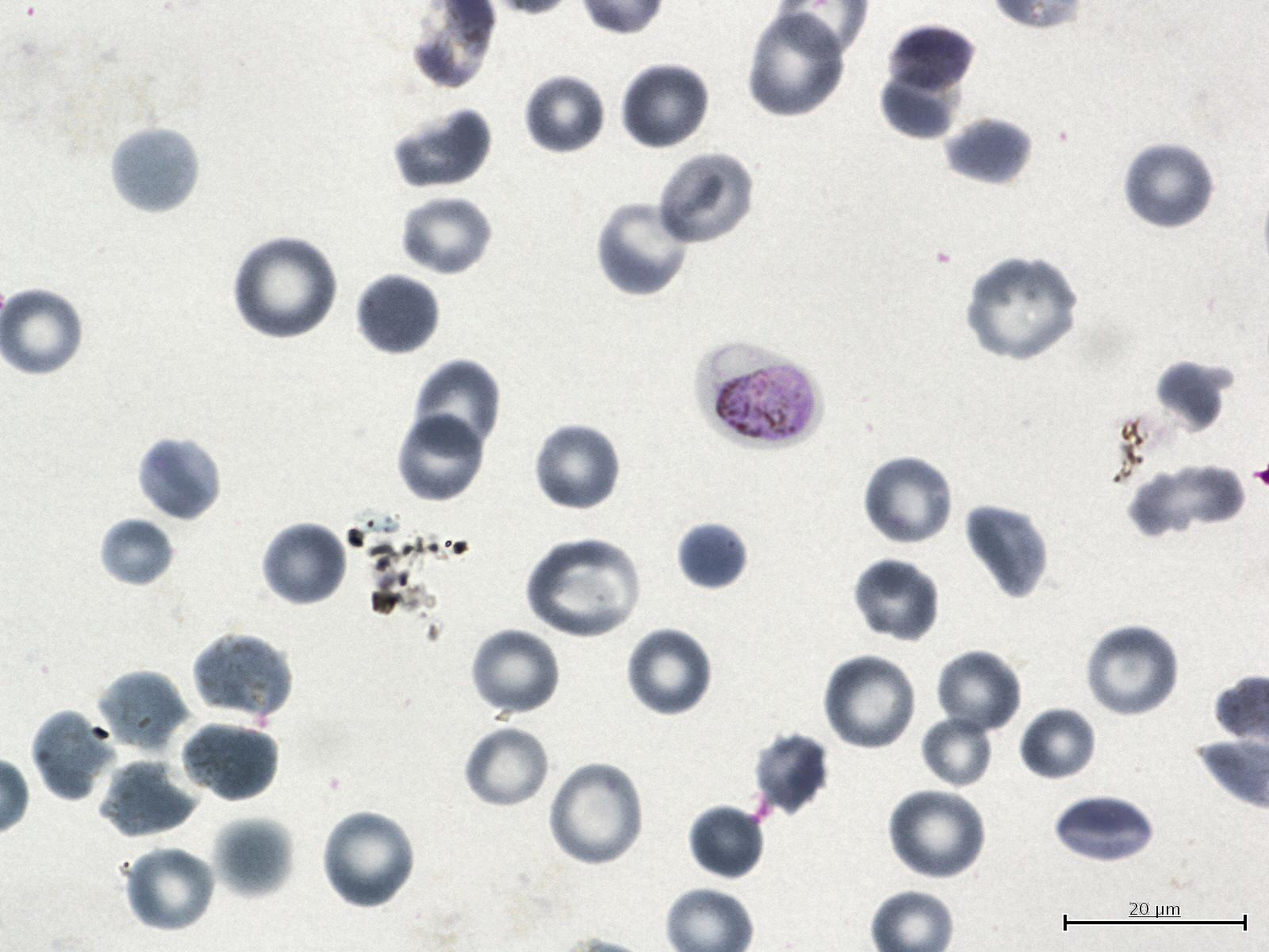Infected: (695, 343, 819, 447)
Uninfected: (522, 532, 644, 643), (231, 233, 338, 342), (968, 259, 1075, 363), (746, 10, 845, 120), (548, 763, 645, 868), (1123, 462, 1249, 540), (656, 150, 756, 248), (411, 360, 503, 465), (822, 653, 918, 752), (596, 198, 691, 298), (888, 786, 986, 881), (321, 809, 414, 908), (1084, 624, 1179, 718), (194, 631, 293, 720), (960, 501, 1047, 600), (863, 455, 955, 547), (1122, 140, 1214, 231), (125, 843, 217, 933), (392, 106, 490, 190), (619, 61, 710, 151), (469, 628, 562, 716), (396, 412, 484, 505), (625, 627, 713, 718), (99, 760, 197, 841), (109, 125, 199, 213), (182, 721, 279, 802), (533, 423, 621, 512), (98, 667, 188, 754), (31, 707, 114, 801), (401, 194, 493, 278), (936, 649, 1022, 737), (852, 558, 939, 644), (262, 520, 348, 607), (136, 436, 222, 522), (354, 272, 440, 357), (1053, 794, 1154, 865), (522, 73, 606, 155), (941, 113, 1033, 187), (753, 731, 830, 816), (880, 62, 961, 140), (213, 814, 291, 893), (1018, 708, 1100, 783), (688, 805, 766, 881), (95, 514, 174, 589), (466, 729, 545, 802), (672, 519, 748, 593), (888, 27, 972, 89), (1158, 359, 1227, 432), (920, 716, 987, 783)
